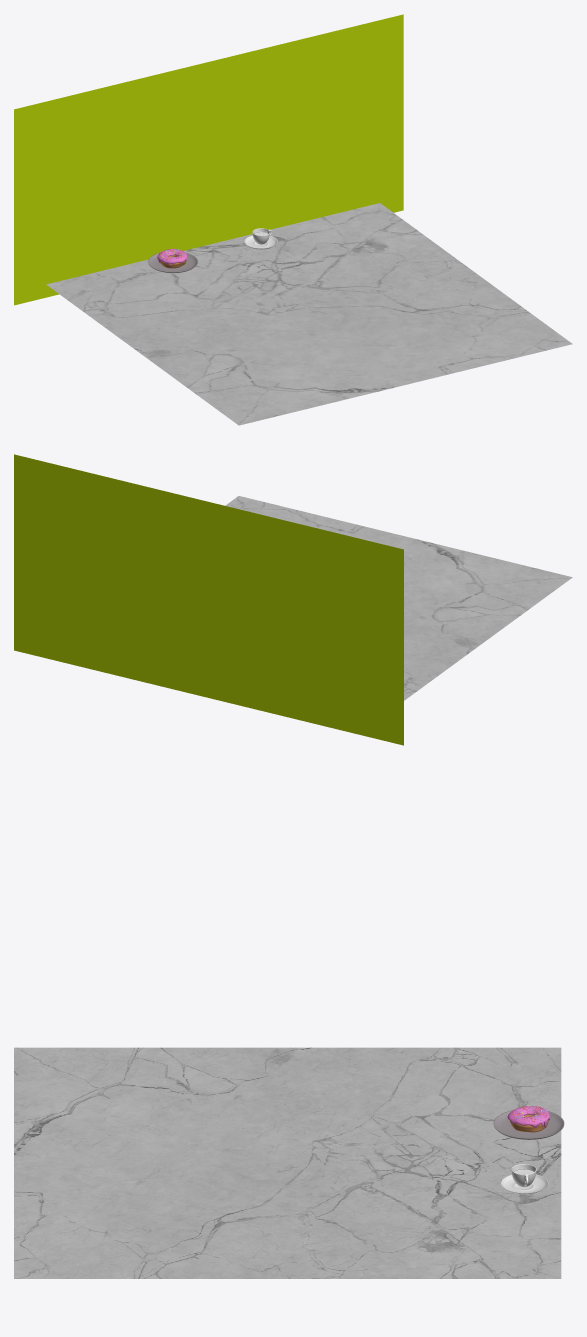
The model's file is Donut.fbx.
3 views of the same model, one above another, from view 1: azimuth 30°, elevation 25°; view 2: azimuth 150°, elevation 25°; view 3: azimuth 270°, elevation 25° (orthographic). The views are drawn at different scales.
Parts seen in each view (by area): view 1: BrickWall, Plane; view 2: BrickWall, Plane; view 3: Plane, Donut Plate, Iceing.
Boxes of the visible parts, x1=… form: BrickWall: x1=14, y1=14, x2=403, y2=305; Plane: x1=46, y1=203, x2=572, y2=425; BrickWall: x1=14, y1=454, x2=403, y2=745; Plane: x1=225, y1=496, x2=572, y2=700; Plane: x1=14, y1=1047, x2=561, y2=1278; Donut Plate: x1=493, y1=1110, x2=564, y2=1139; Iceing: x1=507, y1=1106, x2=550, y2=1127.
Bounding box in the file's own units: 233 × 112 × 204.
